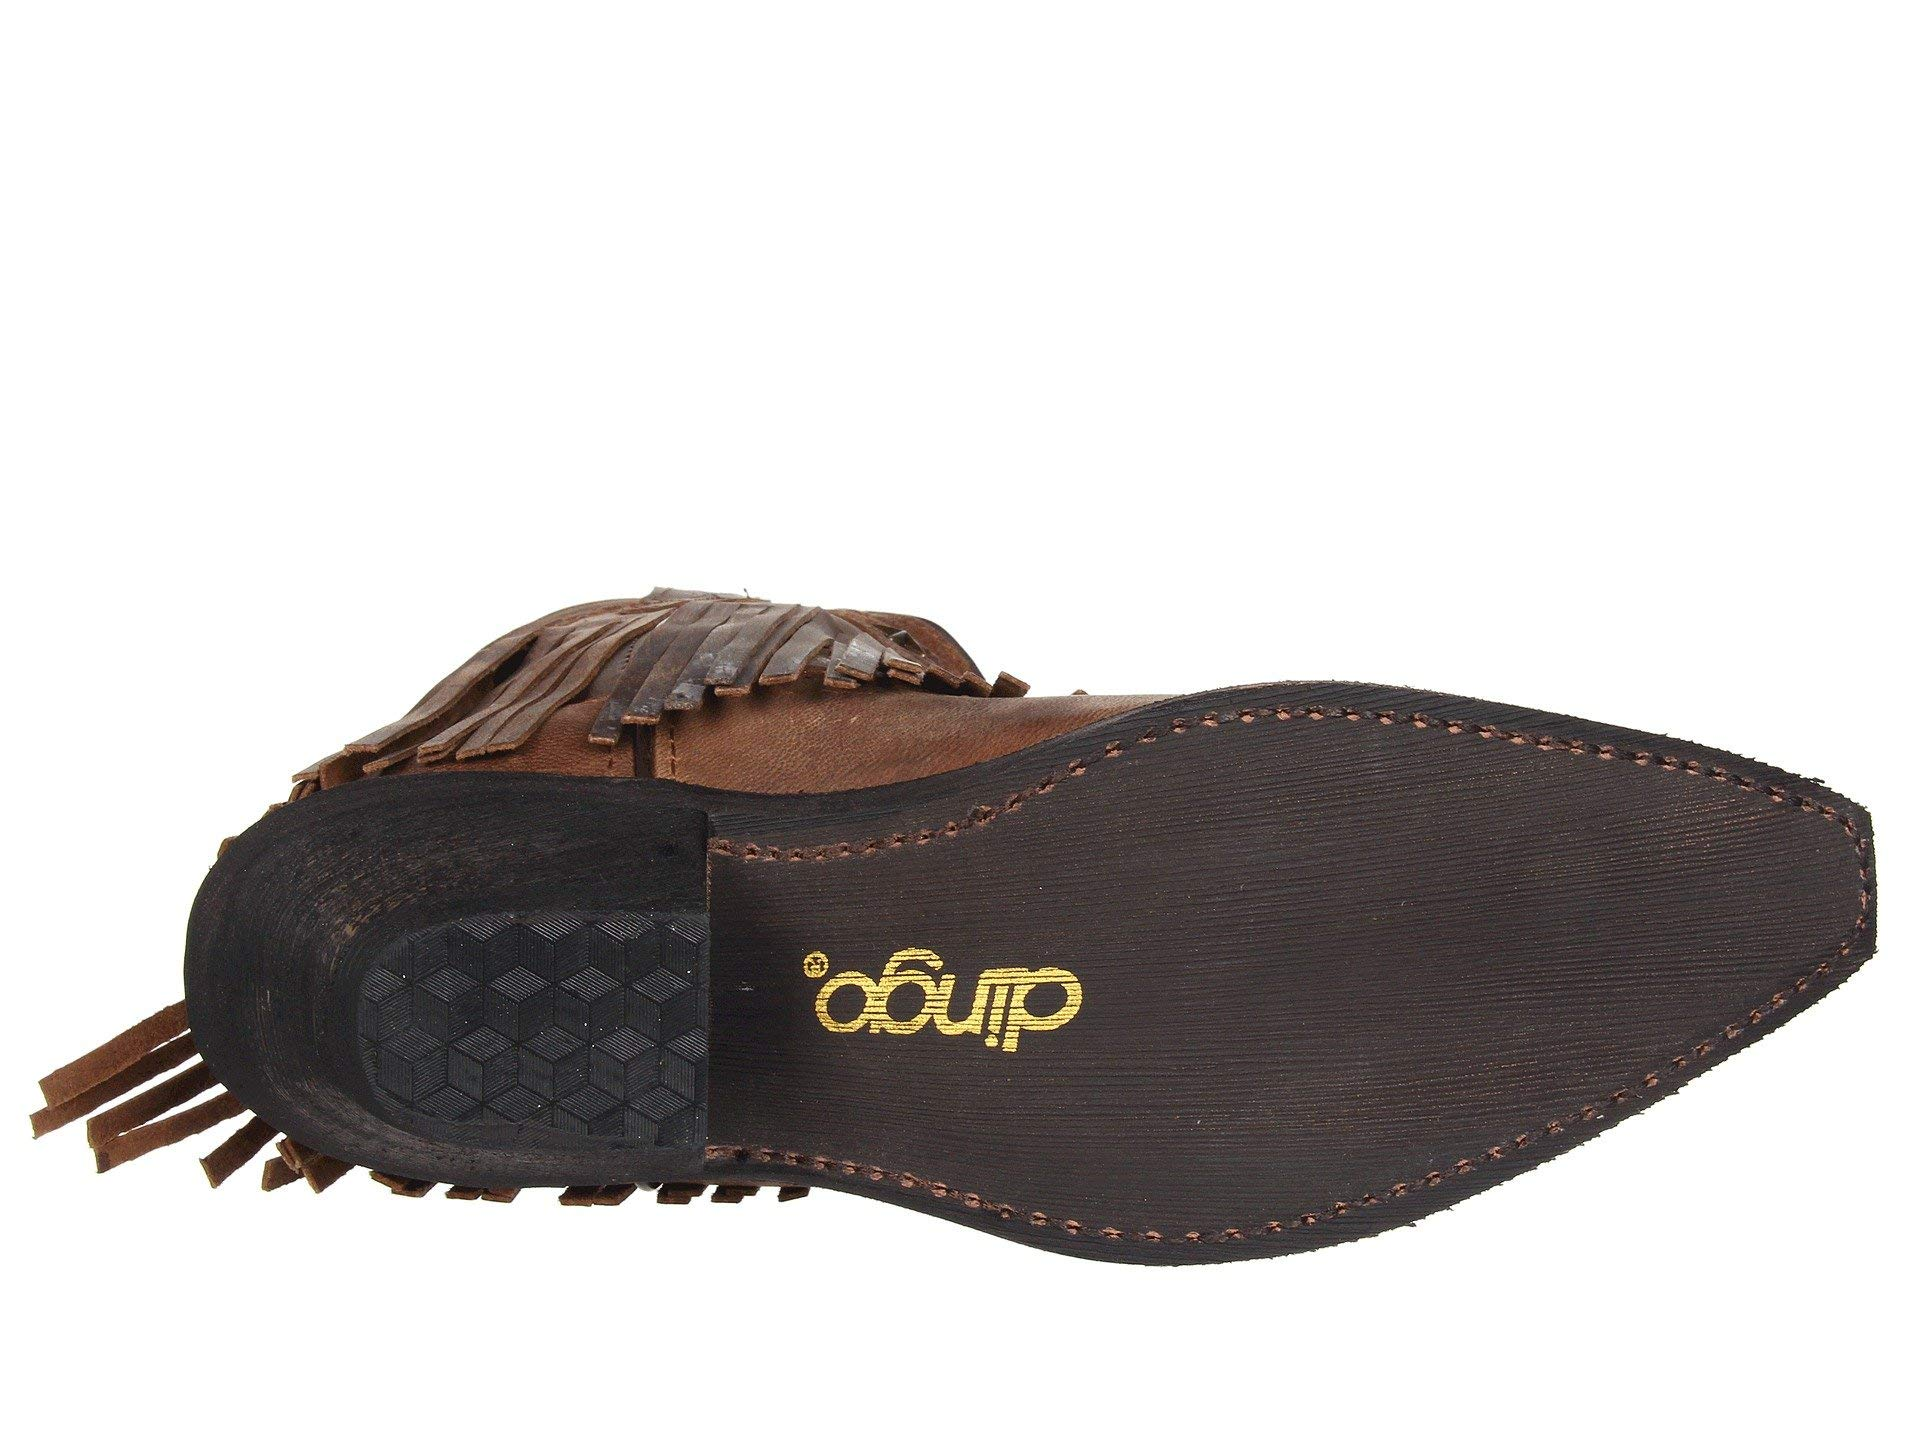circle: (771, 877, 1154, 1106)
polygon: (419, 930, 655, 1133)
quad: (419, 930, 655, 1133)
text: (771, 877, 1154, 1106)
